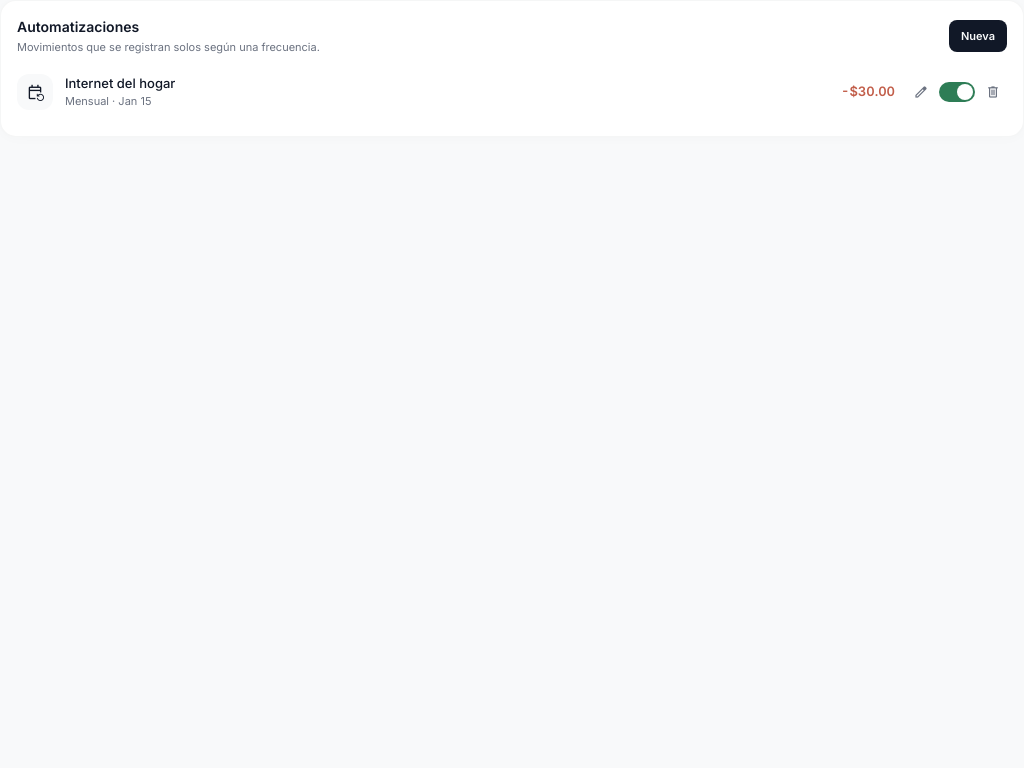
Scenario: RecurringSection › abre el modal para editar una automatización
The image size is (1024, 768).
Expected: the text "Internet del hogar" is shown, top-left (65, 74), bottom-right (175, 90)
Step 1. Click the button named "Editar Internet del hogar" → [921, 92], box top-left (907, 78), bottom-right (935, 106)
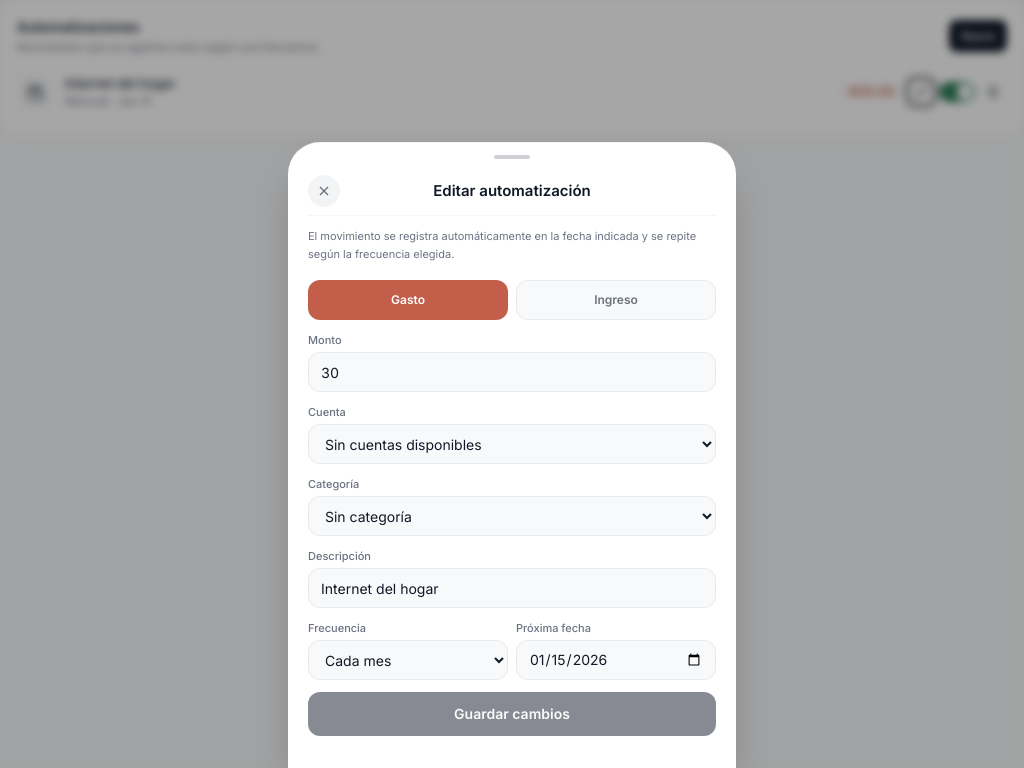
Expected: the heading "Editar automatización" is shown, top-left (433, 180), bottom-right (591, 202)
Expected: the field labelled "Descripción" holds "Internet del hogar", top-left (308, 568), bottom-right (716, 608)
